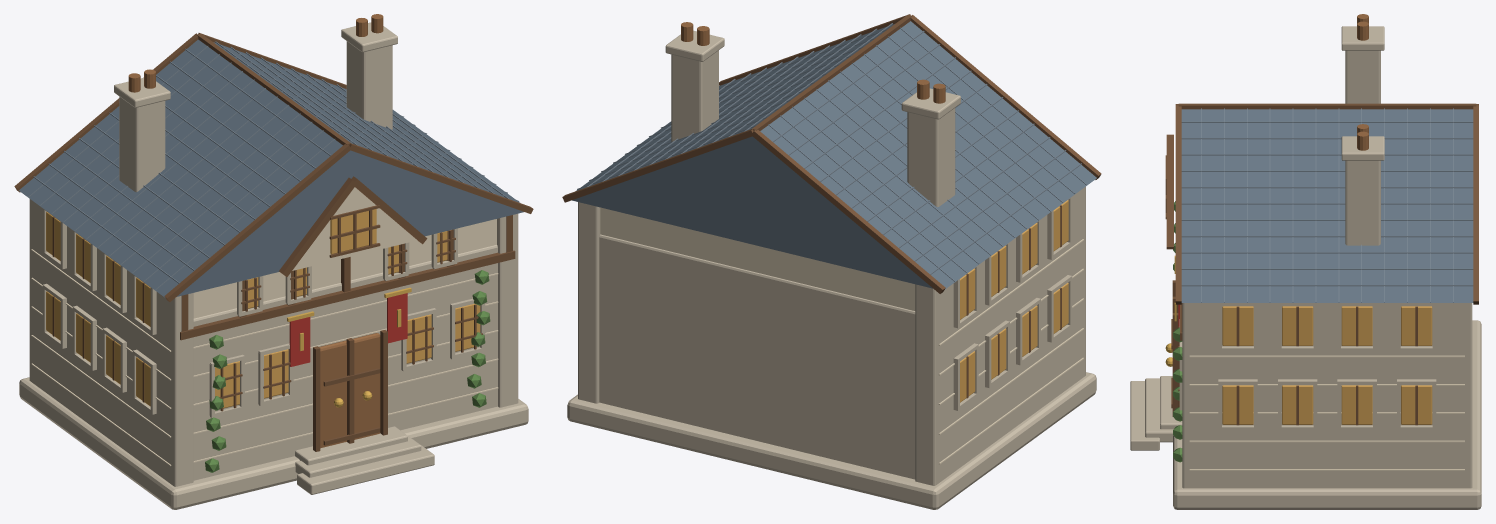
File: mansao_medieval.glb
The picture shows the model from 3 angles, left to right: view 1: azimuth 30°, elevation 25°; view 2: azimuth 150°, elevation 25°; view 3: azimuth 270°, elevation 25°; orthographic projection. The views are drawn at different scales.
Parts seen in each view (by area): view 1: Fundação; view 2: Fundação; view 3: Fundação.
Part boxes in pixels (bbox=[...]): Fundação: bbox=[14, 14, 533, 509]; Fundação: bbox=[562, 14, 1101, 509]; Fundação: bbox=[1130, 14, 1481, 509].
Bounding box in the file's own units: 5.64 × 5.19 × 4.73.
